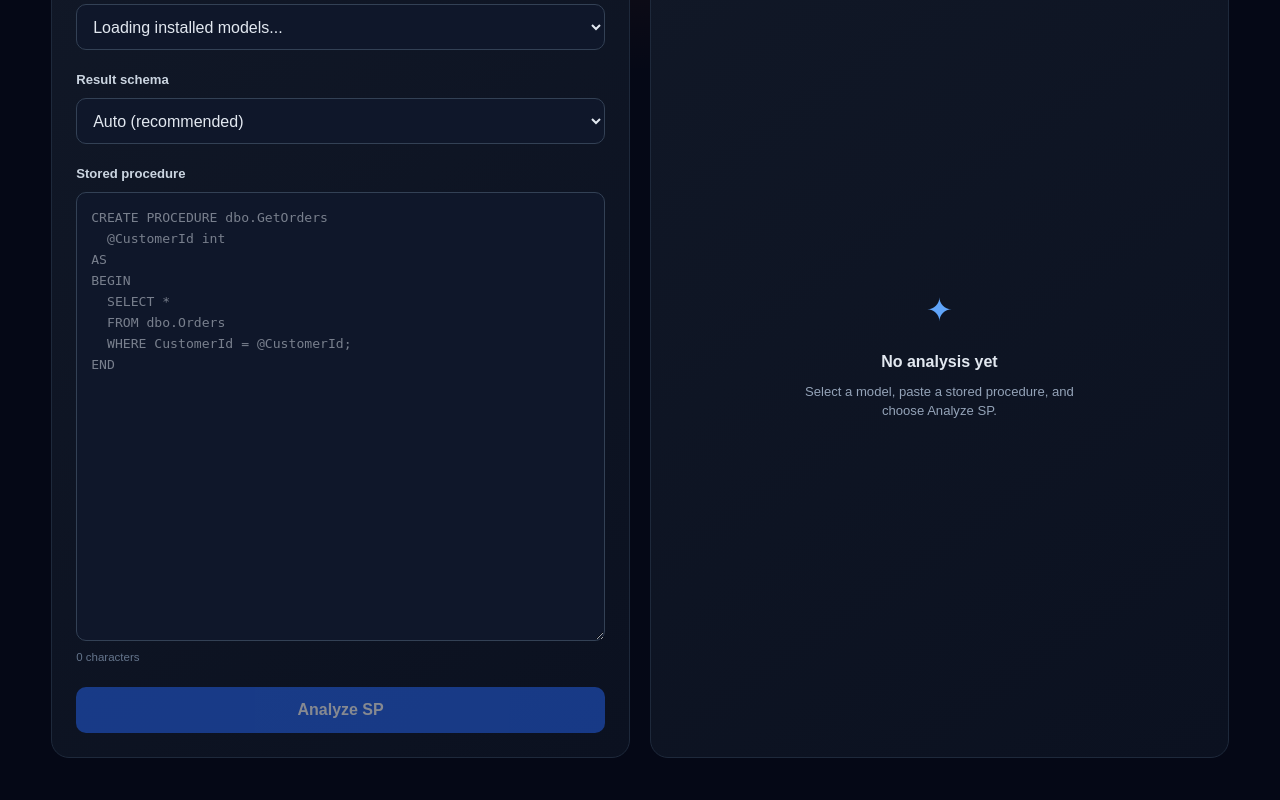
ReviewPage › shows the Recommended restructure section (provided)
(page scrolled)
Replace the text in the text box with placeholder "CREATE PROCEDURE" with "select 1" at (341, 417), box [76,192,605,641]
(page scrolled)
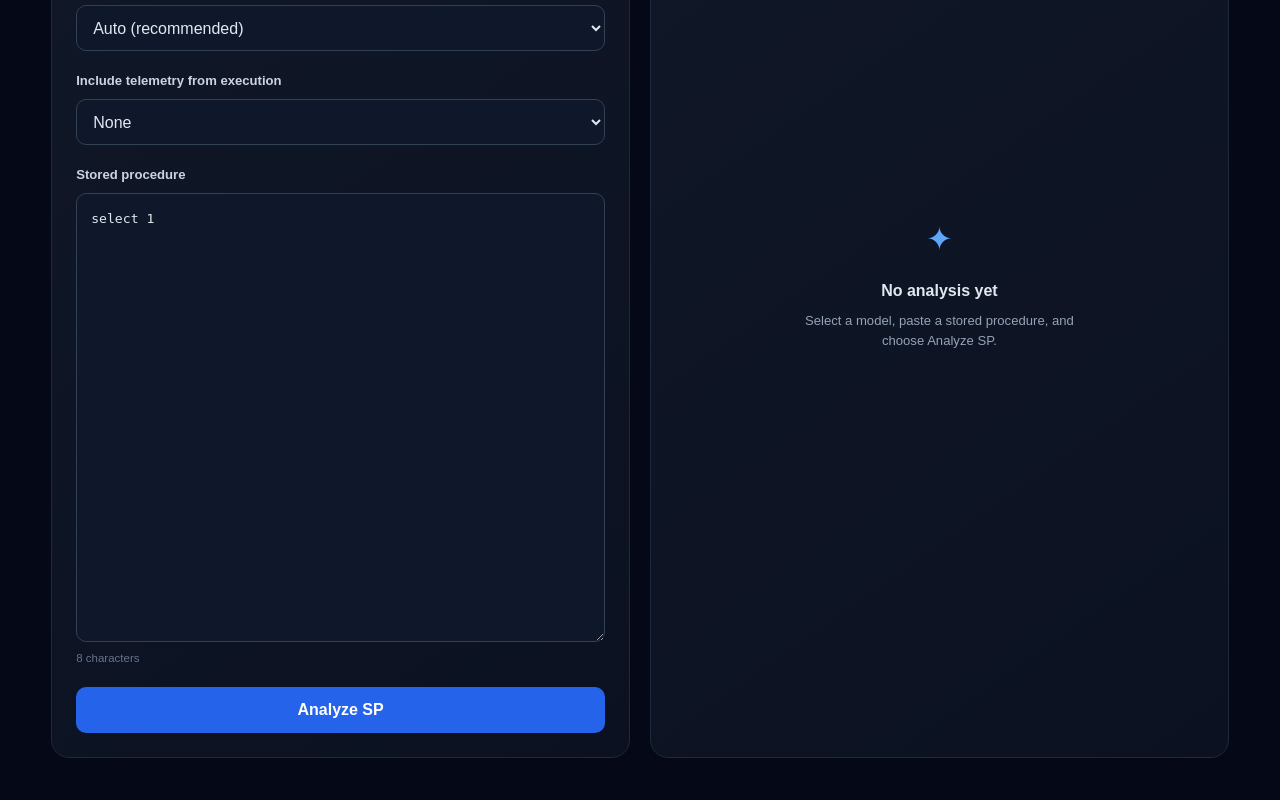
Click the button "Analyze SP" at (341, 710), box [76,688,605,734]
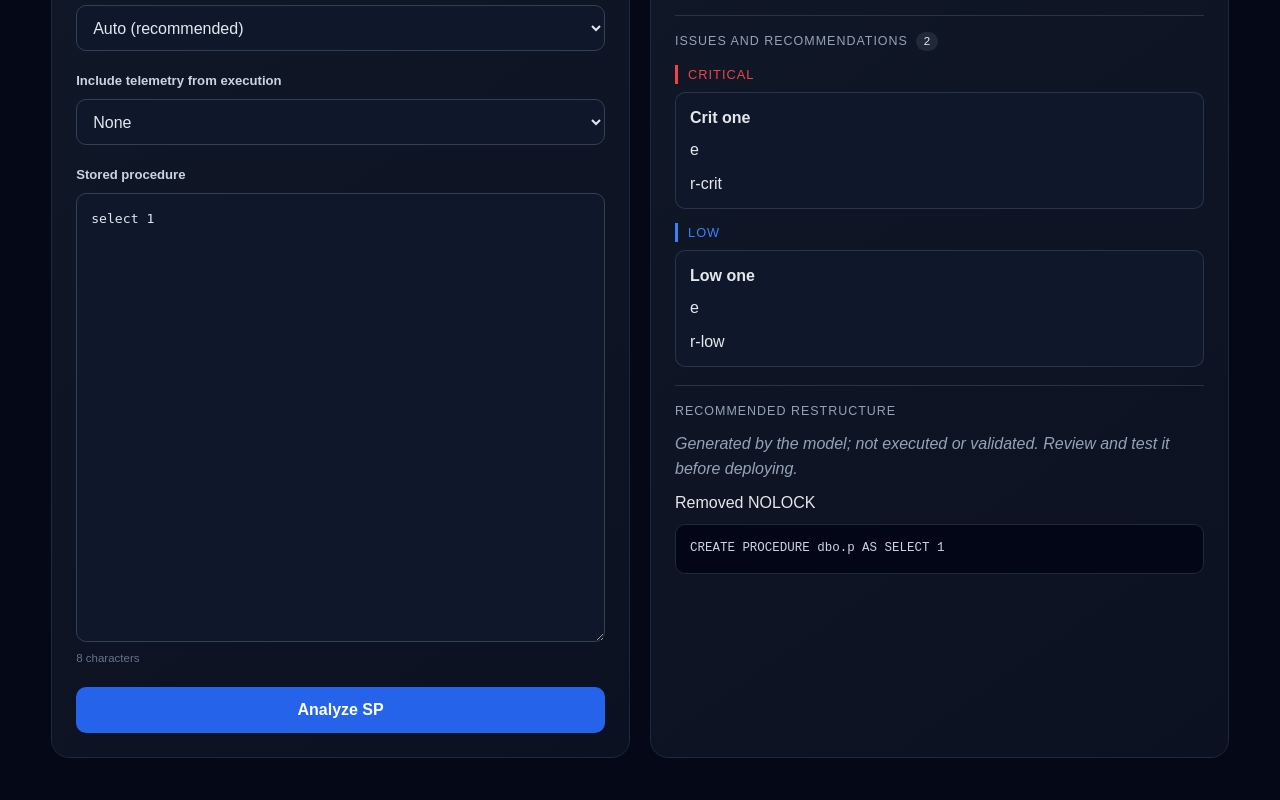
Result: the heading "Recommended restructure" is shown at [675,404,896,418]
Result: the list item "Removed NOLOCK" is shown at [675,494,816,511]
